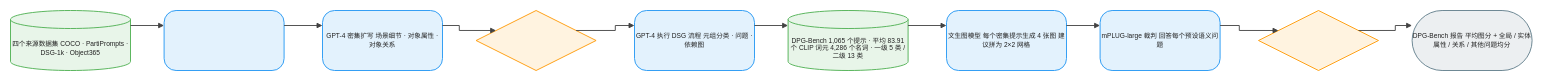
The diagram is 1543 pixels wide and 82 high, and some of its shapes have lost their labels. The centre of each missing label's shape, as x and y in pixels:
DSG 图评分 按问题依赖关系计算提示分: [1318,40]
人工核验 检查长提示与语义要求: [535,40]
适配来源提示 扩写前三个来源 从 Object365 抽取 1–4 个对象: [223,40]
